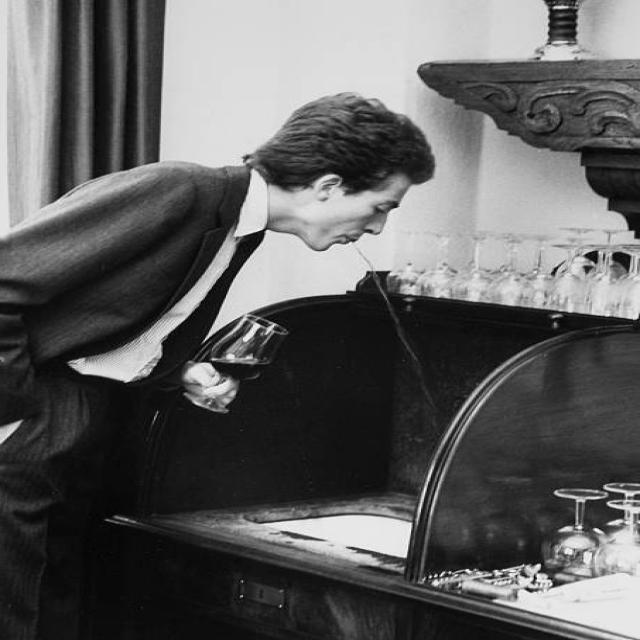Spitting: (244, 92, 477, 351)
